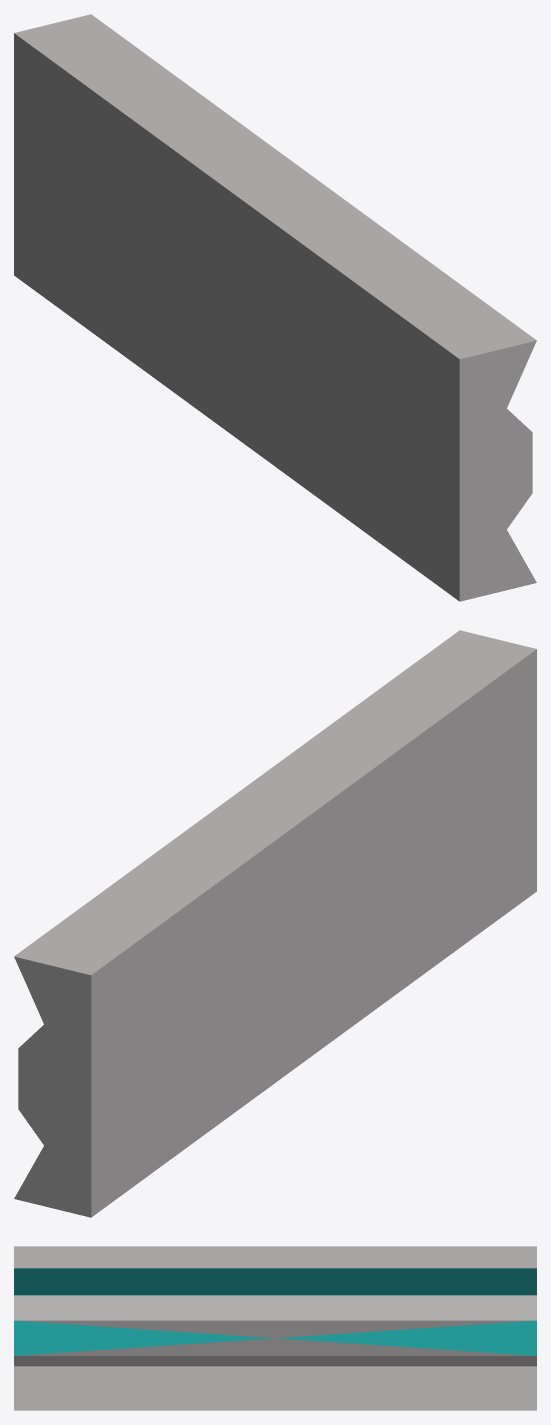
Rendered from WallBlueFinal.fbx.
The picture shows the model from 3 angles, top to bottom: view 1: azimuth 30°, elevation 25°; view 2: azimuth 150°, elevation 25°; view 3: azimuth 270°, elevation 25°; orthographic projection. The views are drawn at different scales.
Parts seen in each view (by area): view 1: Cube; view 2: Cube; view 3: Cube.
Part boxes in pixels (left/top/right/bottom): Cube: left=14, top=14, right=536, bottom=601; Cube: left=14, top=630, right=536, bottom=1217; Cube: left=14, top=1246, right=536, bottom=1410.
Bounding box in the file's own units: 20 × 60 × 200.
